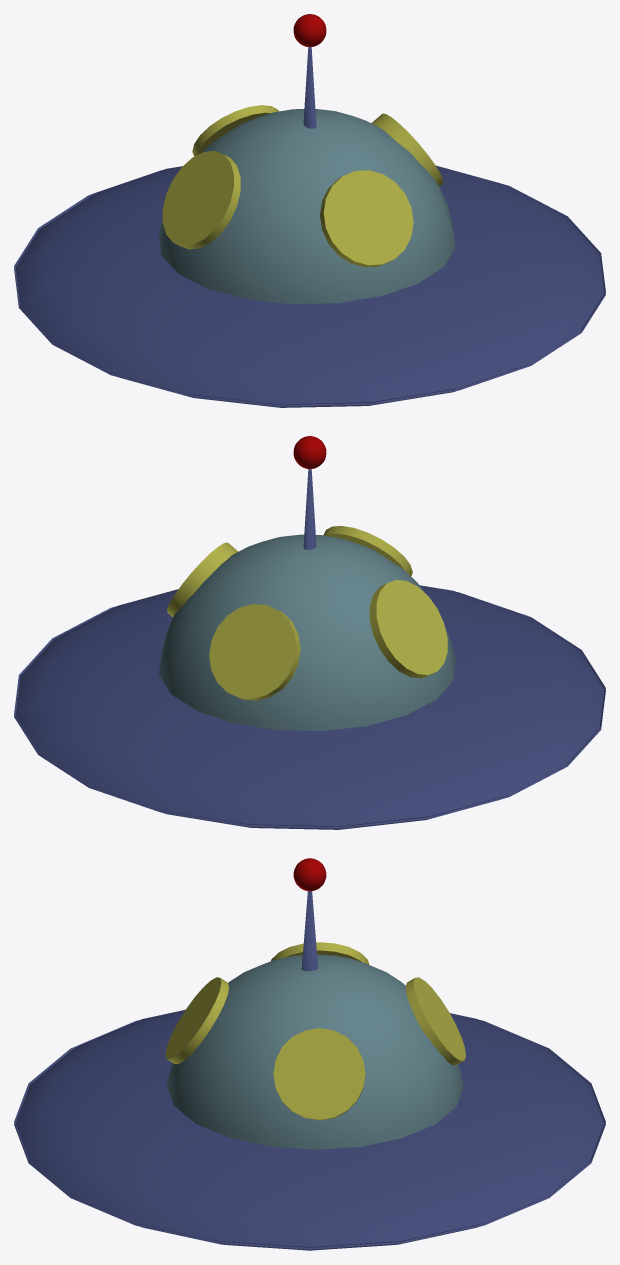
The model's file is UFO.fbx.
3 renders of one model, top to bottom at view 1: azimuth 30°, elevation 25°; view 2: azimuth 150°, elevation 25°; view 3: azimuth 270°, elevation 25°, orthographic.
Parts seen in each view (by area): view 1: pasted__pSphere1, pSphere2, pCylinder3, pCylinder2, pSphere1, pCylinder4, pCylinder1, pSphere3, pCone1; view 2: pasted__pSphere1, pSphere2, pCylinder4, pCylinder2, pSphere1, pCylinder1, pCylinder3, pSphere3, pCone1; view 3: pasted__pSphere1, pSphere2, pCylinder1, pCylinder3, pCylinder4, pSphere1, pCone1, pCylinder2, pSphere3.
Boxes of the visible parts, <box> form: pasted__pSphere1: <box>14,165,605,406</box>; pSphere2: <box>159,109,455,304</box>; pCylinder3: <box>320,170,413,267</box>; pCylinder2: <box>162,151,240,249</box>; pSphere1: <box>14,170,605,407</box>; pCylinder4: <box>192,105,278,156</box>; pCylinder1: <box>371,113,443,186</box>; pSphere3: <box>293,14,326,46</box>; pCone1: <box>303,47,316,128</box>; pasted__pSphere1: <box>14,585,605,828</box>; pSphere2: <box>159,534,455,731</box>; pCylinder4: <box>209,604,300,700</box>; pCylinder2: <box>369,580,447,678</box>; pSphere1: <box>14,592,605,829</box>; pCylinder1: <box>167,542,238,616</box>; pCylinder3: <box>323,526,412,576</box>; pSphere3: <box>293,436,326,468</box>; pCone1: <box>303,469,316,549</box>; pasted__pSphere1: <box>14,1010,605,1249</box>; pSphere2: <box>167,954,463,1149</box>; pCylinder1: <box>273,1028,365,1120</box>; pCylinder3: <box>165,977,229,1064</box>; pCylinder4: <box>405,977,465,1065</box>; pSphere1: <box>14,1020,605,1250</box>; pCone1: <box>301,891,318,971</box>; pCylinder2: <box>271,942,369,964</box>; pSphere3: <box>293,858,326,891</box>.
Size of the model in its own units: 3.95 by 2.34 by 3.95.
